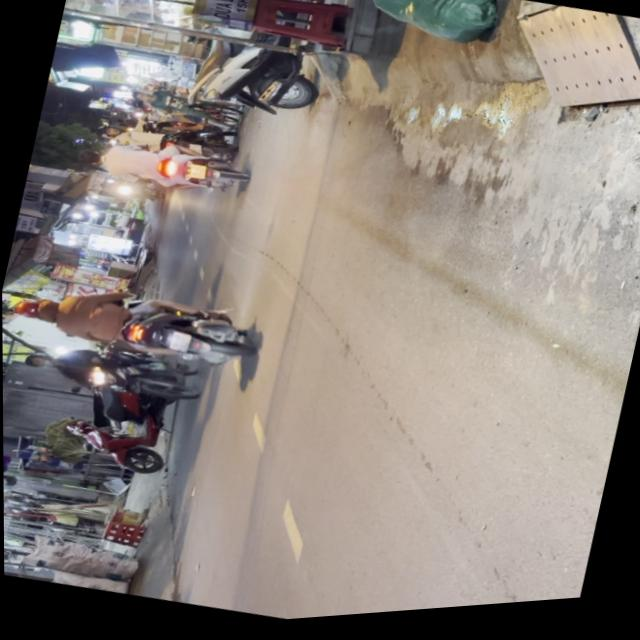helmet: (10, 294, 57, 329)
licenseplate: (6, 263, 260, 390)
nohelmet: (163, 333, 189, 356)
